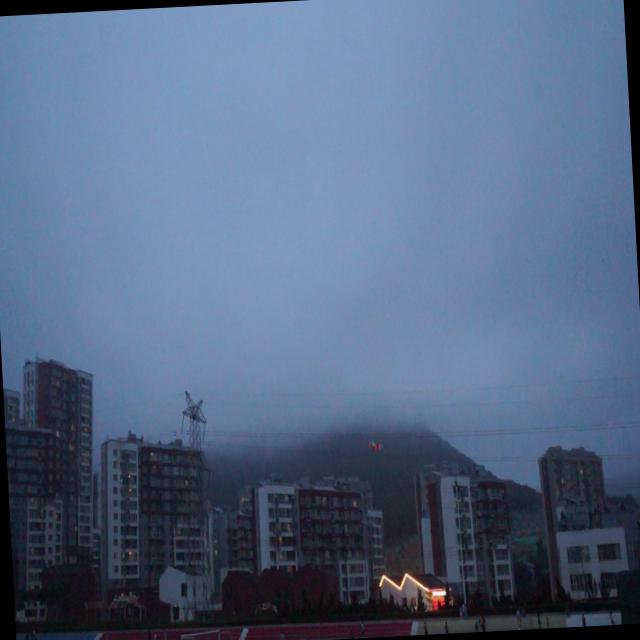drone: (366, 434, 383, 456)
